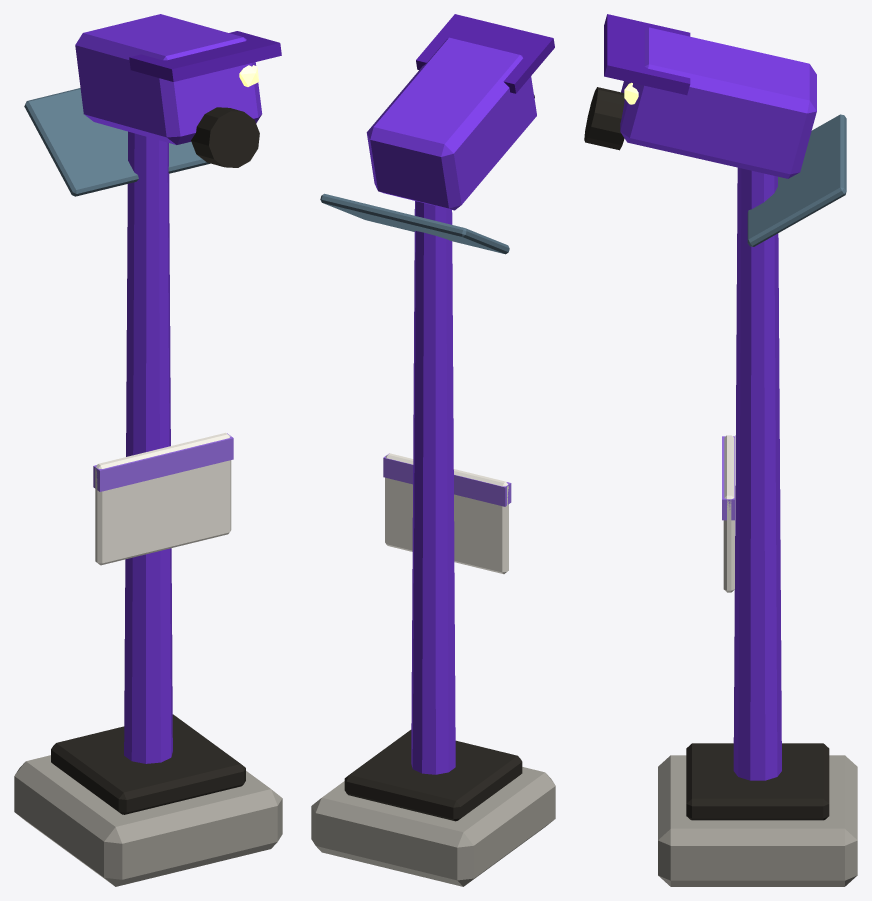
Rendered from cctv-mobile.glb.
3 renders of one model, left to right at view 1: azimuth 30°, elevation 25°; view 2: azimuth 150°, elevation 25°; view 3: azimuth 270°, elevation 25°, orthographic. The views are drawn at different scales.
Parts seen in each view (by area): view 1: body, metal, ink, paper, glass, body3, body2; view 2: body, metal, ink, paper, body3, glass, body2; view 3: body, metal, ink, glass, body3, paper.
Part boxes in pixels (left/top/right/bottom): body: left=75, top=14, right=262, bottom=763; metal: left=14, top=755, right=282, bottom=886; ink: left=51, top=107, right=259, bottom=814; paper: left=95, top=432, right=231, bottom=565; glass: left=24, top=88, right=210, bottom=196; body3: left=129, top=31, right=281, bottom=81; body2: left=93, top=433, right=233, bottom=491; body: left=366, top=37, right=536, bottom=774; metal: left=311, top=767, right=555, bottom=886; ink: left=344, top=95, right=534, bottom=821; paper: left=385, top=453, right=508, bottom=574; body3: left=416, top=14, right=554, bottom=93; glass: left=320, top=193, right=509, bottom=254; body2: left=383, top=453, right=511, bottom=506; body: left=620, top=27, right=816, bottom=780; metal: left=658, top=755, right=857, bottom=886; ink: left=584, top=87, right=829, bottom=820; glass: left=747, top=114, right=846, bottom=246; body3: left=604, top=14, right=690, bottom=95; paper: left=723, top=435, right=734, bottom=592.
Size of the model in its own units: 2.8 by 12.53 by 3.83.
